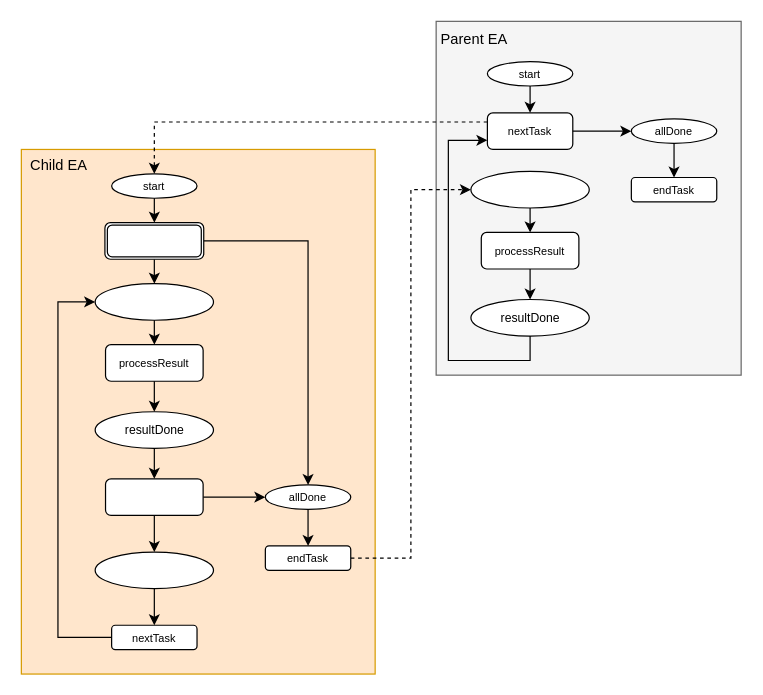
This 763x695 diagram has some shape labels left out. Here are the shapes that lost their labels. From the top down, the box of each, then its label:
(470, 170, 589, 208): subTaskDone
(104, 221, 204, 259): startTasks
(94, 282, 214, 320): taskDone
(104, 478, 203, 515): checkMoreTask
(94, 551, 214, 589): moreTask
